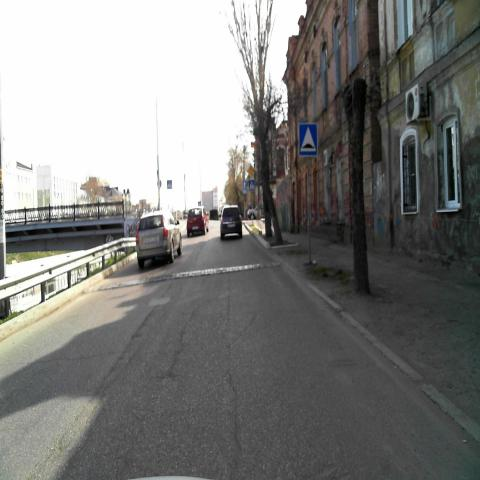5_20: (299, 123, 317, 156)
